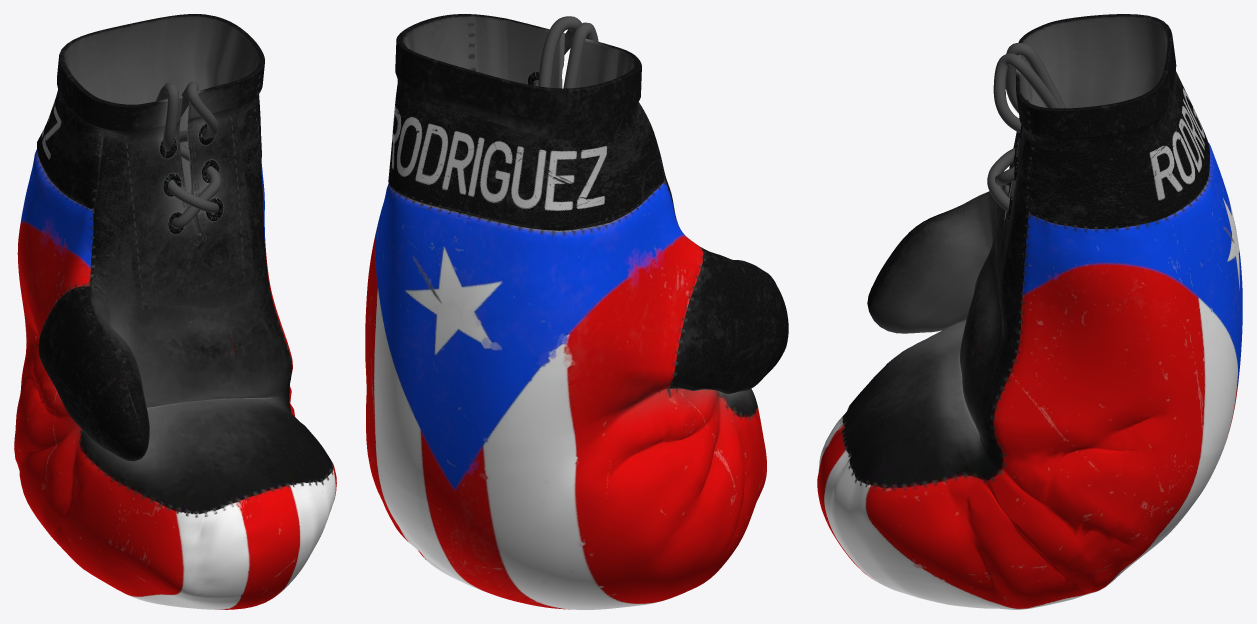
Rendered from gloveLEFT.glb.
The picture shows the model from 3 angles, left to right: view 1: azimuth 30°, elevation 25°; view 2: azimuth 150°, elevation 25°; view 3: azimuth 270°, elevation 25°; orthographic projection. The views are drawn at different scales.
Visible parts, largest first — view 1: gloves, string, rings; view 2: gloves, string; view 3: gloves, string.
Part boxes in pixels (<box>): gloves: <box>14,14,336,609</box>; string: <box>156,81,221,228</box>; rings: <box>160,124,223,234</box>; gloves: <box>365,14,788,609</box>; string: <box>534,16,598,88</box>; gloves: <box>817,14,1242,609</box>; string: <box>987,43,1065,211</box>.
Bounding box in the file's own units: 3.47 × 6.32 × 4.47.
Materials: 3 (3 with a texture image).
